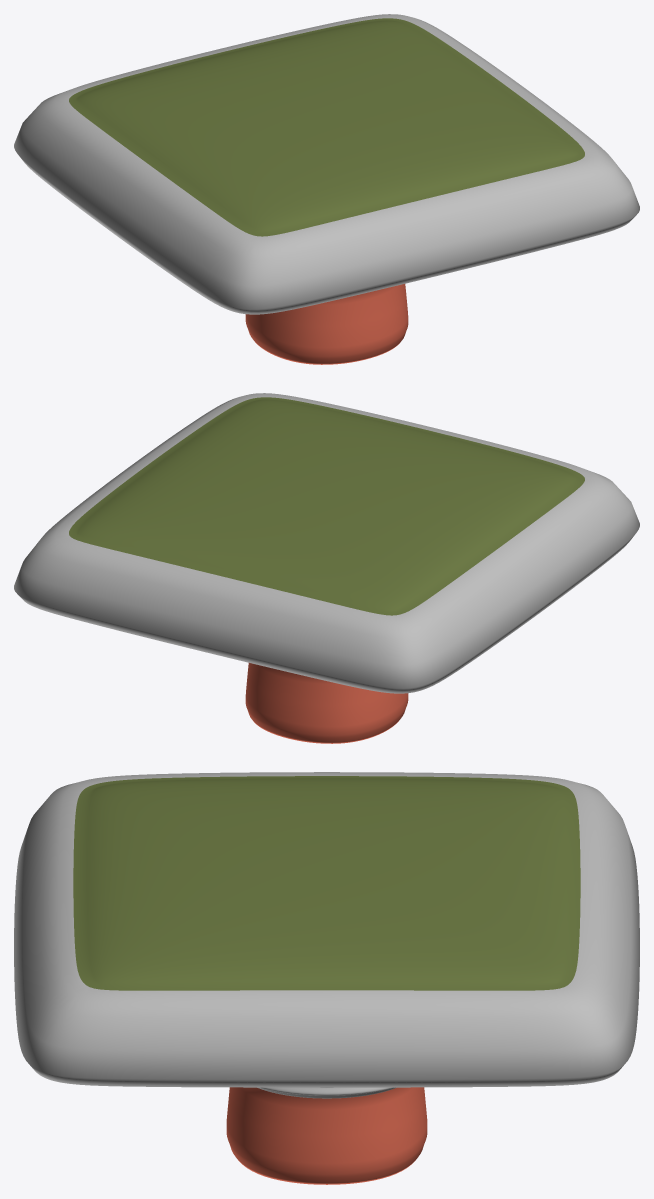
File: Platform.fbx
3 renders of one model, top to bottom at view 1: azimuth 30°, elevation 25°; view 2: azimuth 150°, elevation 25°; view 3: azimuth 270°, elevation 25°, orthographic. The views are drawn at different scales.
Parts seen in each view (by area): view 1: Plane.001; view 2: Plane.001; view 3: Plane.001.
Part boxes in pixels (x1=…): Plane.001: x1=14, y1=14, x2=639, y2=364; Plane.001: x1=14, y1=393, x2=639, y2=743; Plane.001: x1=14, y1=772, x2=639, y2=1184.
Bounding box in the file's own units: 235 × 116 × 235.
